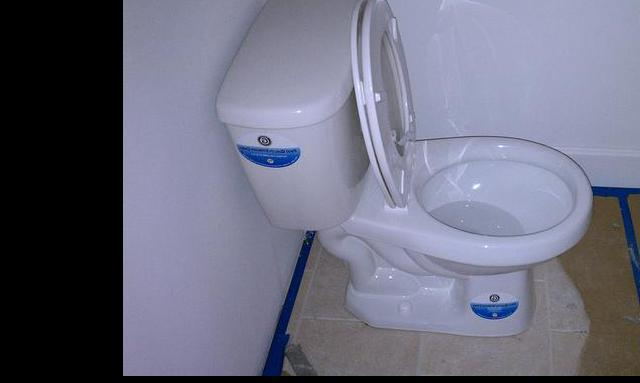Sanitario: (210, 0, 595, 341)
